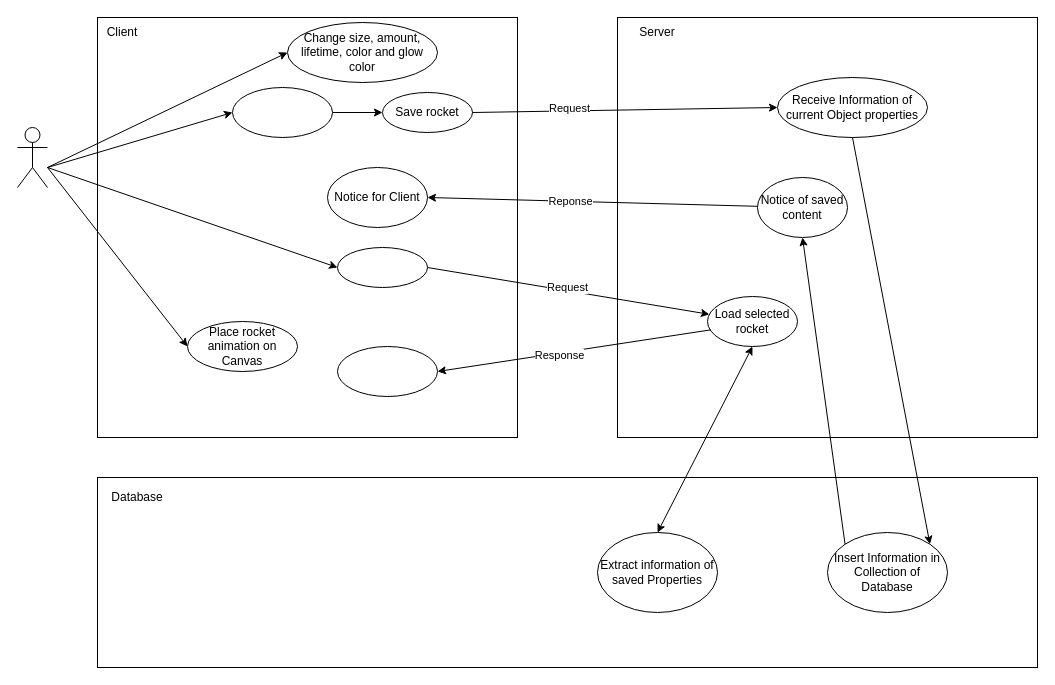
The diagram is 1055 pixels wide and 685 high, and some of its shapes have lost their labels. The shapes that lost their labels are listed below. From the top down, each one's centre as x and y in pixels, then its label:
At [282,112]: "Input rocket name".
At [32,157]: "Actor".
At [382,267]: "Load rocket".
At [387,371]: "Change input values".
